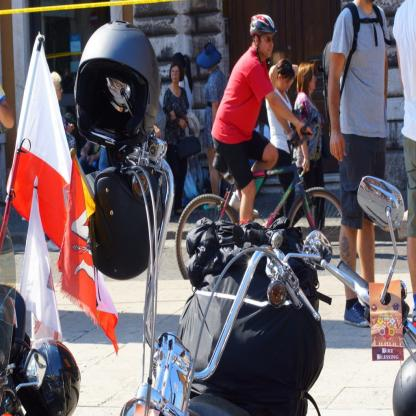Helmet: (73, 19, 162, 154), (86, 160, 164, 282), (25, 331, 82, 415), (250, 12, 274, 62)
